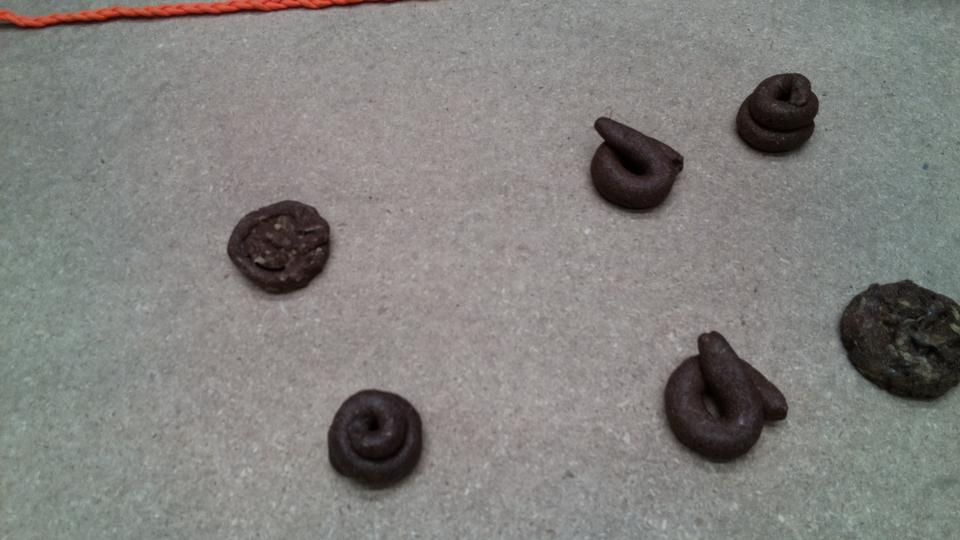poop: (661, 328, 791, 464), (836, 275, 960, 406), (225, 197, 333, 298), (325, 385, 426, 493), (588, 116, 686, 215), (733, 68, 821, 159)
rope: (1, 1, 363, 33)
